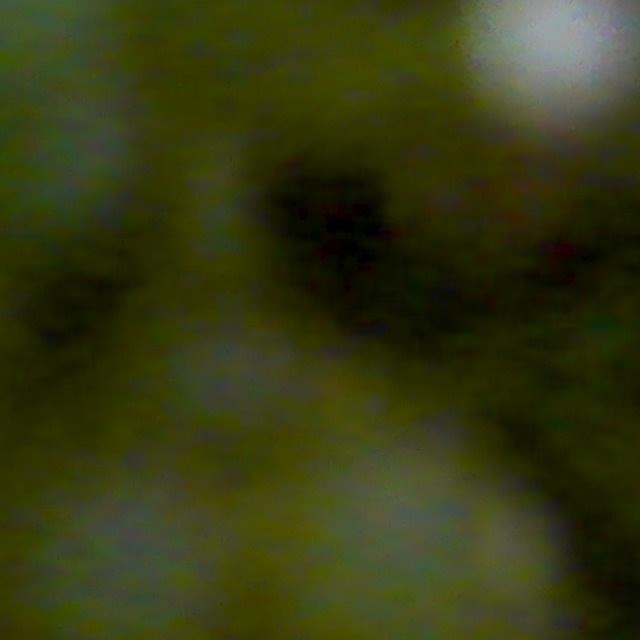SeaGrape: (0, 63, 121, 233)
